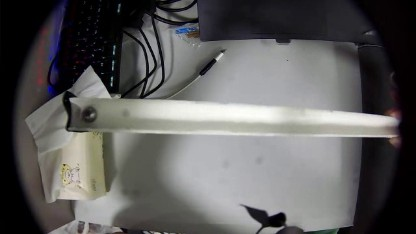gangzhu: (80, 105, 99, 122)
